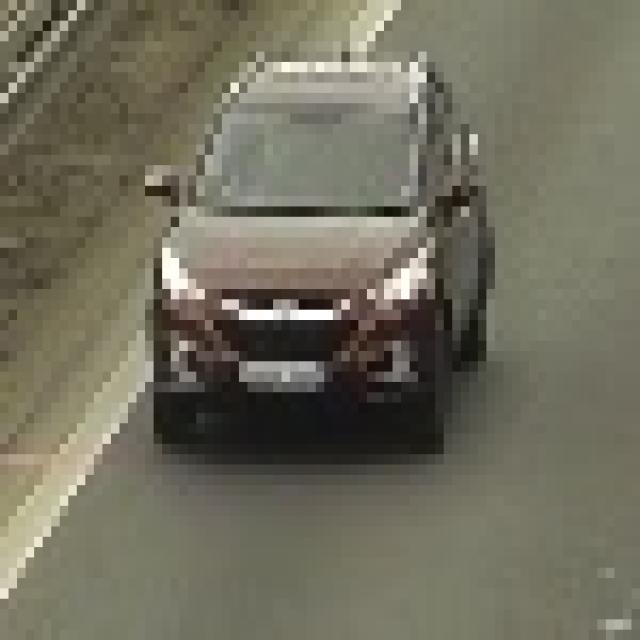SUV: (157, 66, 462, 441)
